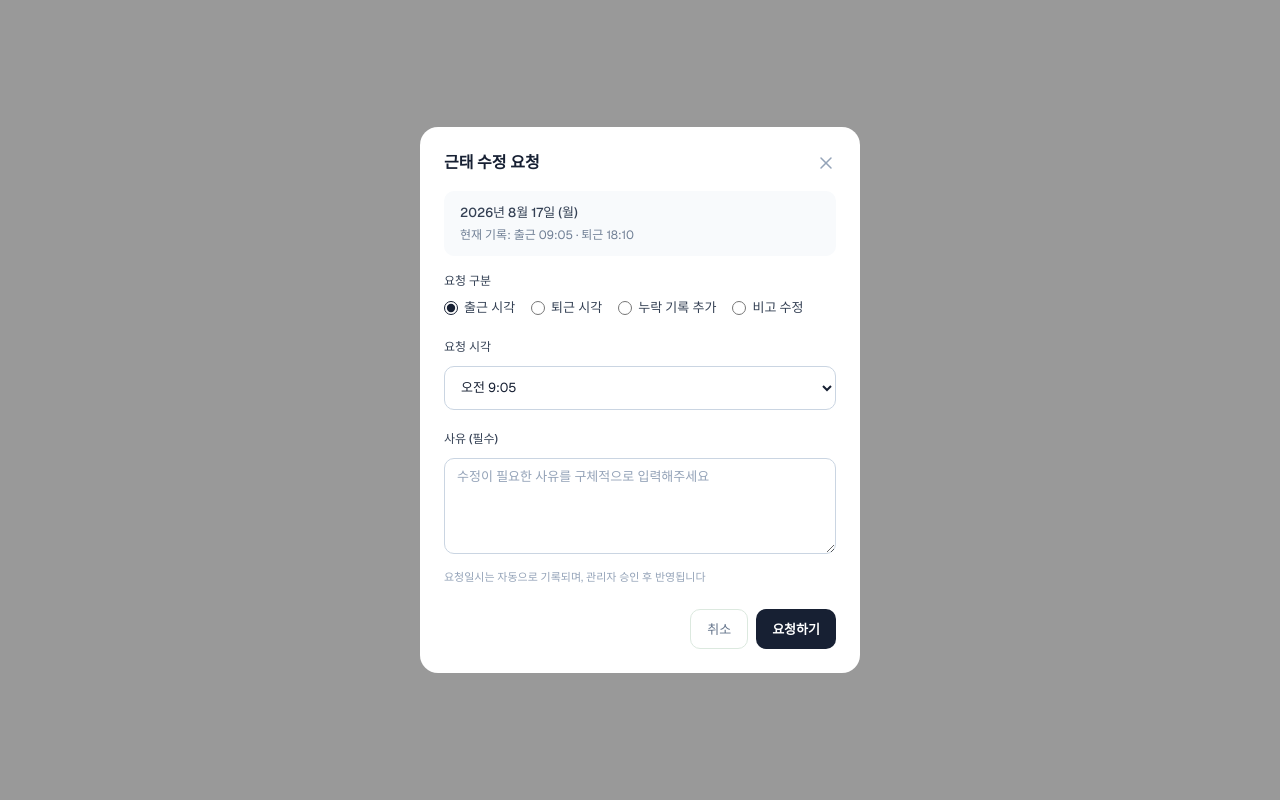
Test: AttendanceCreateEditRequestModal › 기본 요청 구분(출근 시각)이면 요청 시각 select를 노출하고, 사유 없이 제출하면 에러 메시지를 노출한다
Expected: the dropdown labelled "요청 시각" is shown, [444,366,836,410]
What coordinates should you click on to do the following:
click the button "요청하기"
I would click on:
 (796, 629)
Its box is [756,609,836,649].
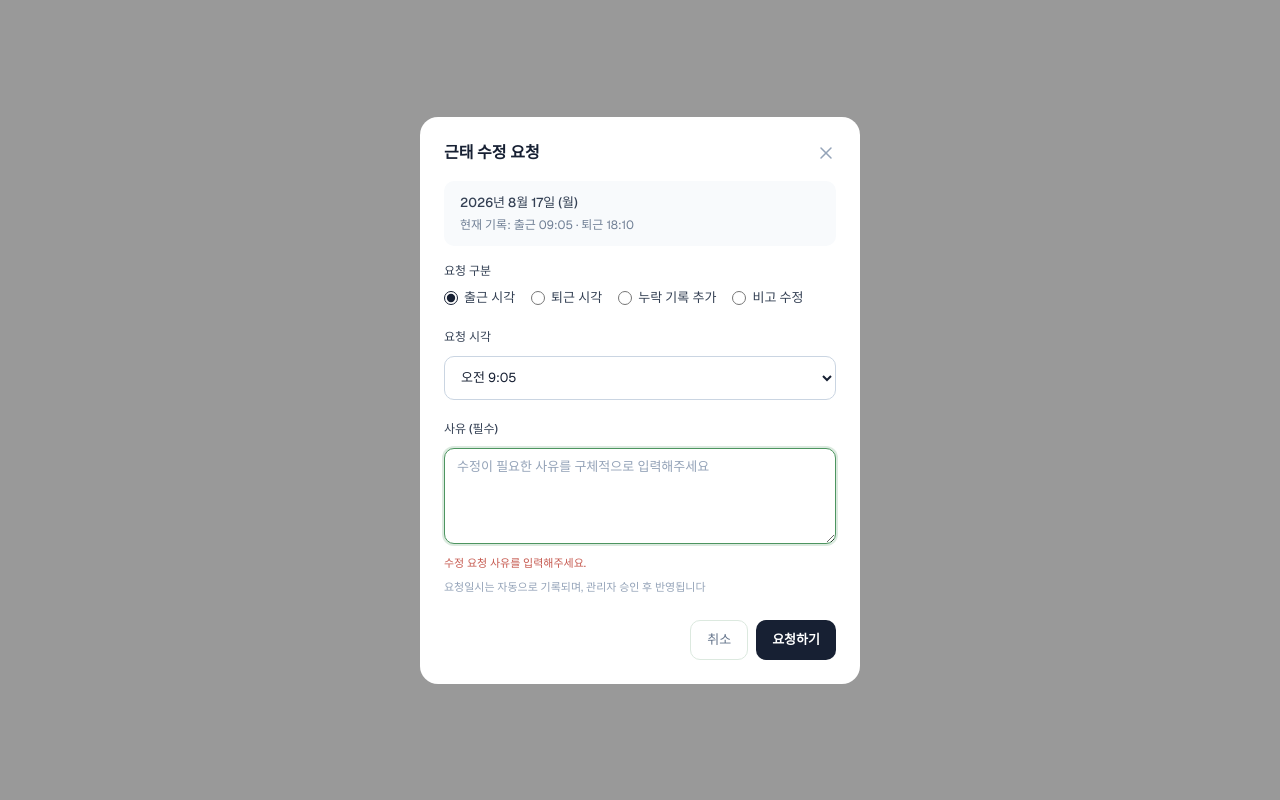
Result: the text "수정 요청 사유를 입력해주세요." is shown at [444,556,586,570]
